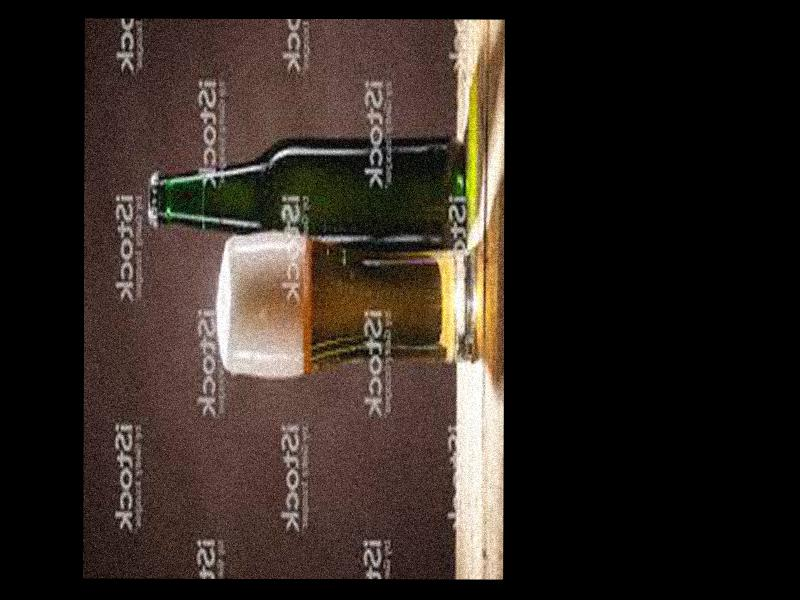Beer: (148, 135, 467, 252)
